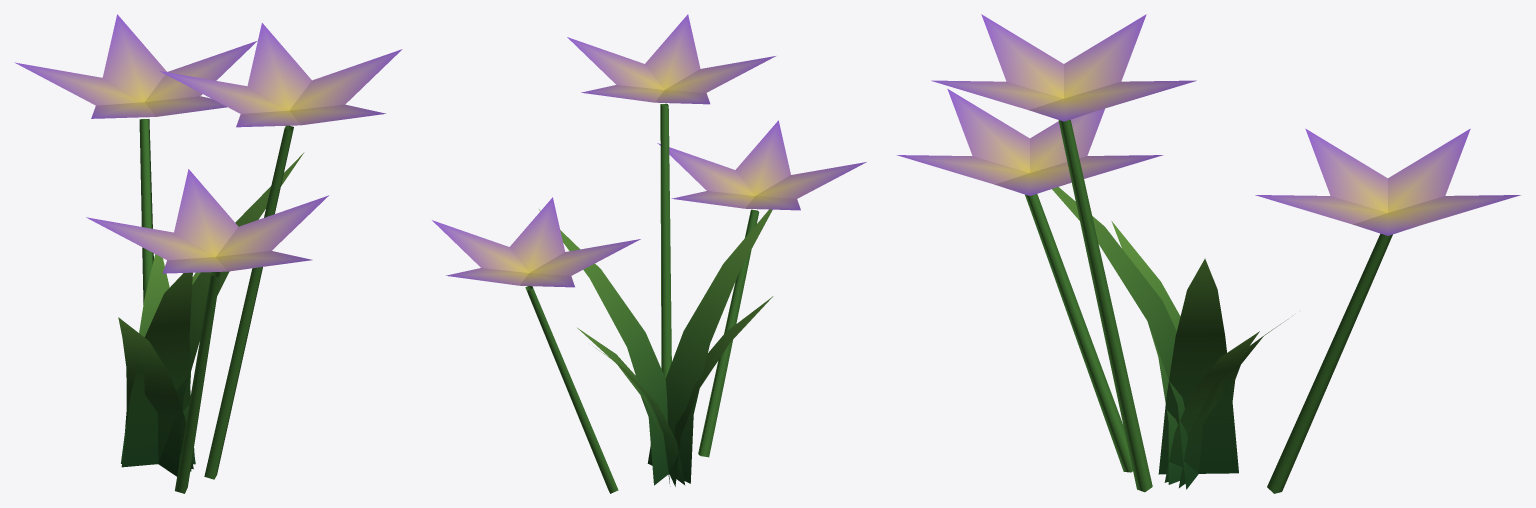
The model's file is f_flower0.glb.
The picture shows the model from 3 angles, left to right: view 1: azimuth 30°, elevation 25°; view 2: azimuth 150°, elevation 25°; view 3: azimuth 270°, elevation 25°; orthographic projection. The views are drawn at different scales.
Visible parts, largest first — view 1: flower0; view 2: flower0; view 3: flower0.
Boxes of the visible parts, x1=… form: flower0: x1=14, y1=14, x2=402, y2=493; flower0: x1=432, y1=14, x2=866, y2=493; flower0: x1=897, y1=14, x2=1520, y2=493.
Bounding box in the file's own units: 0.3708 × 0.4934 × 0.622.
